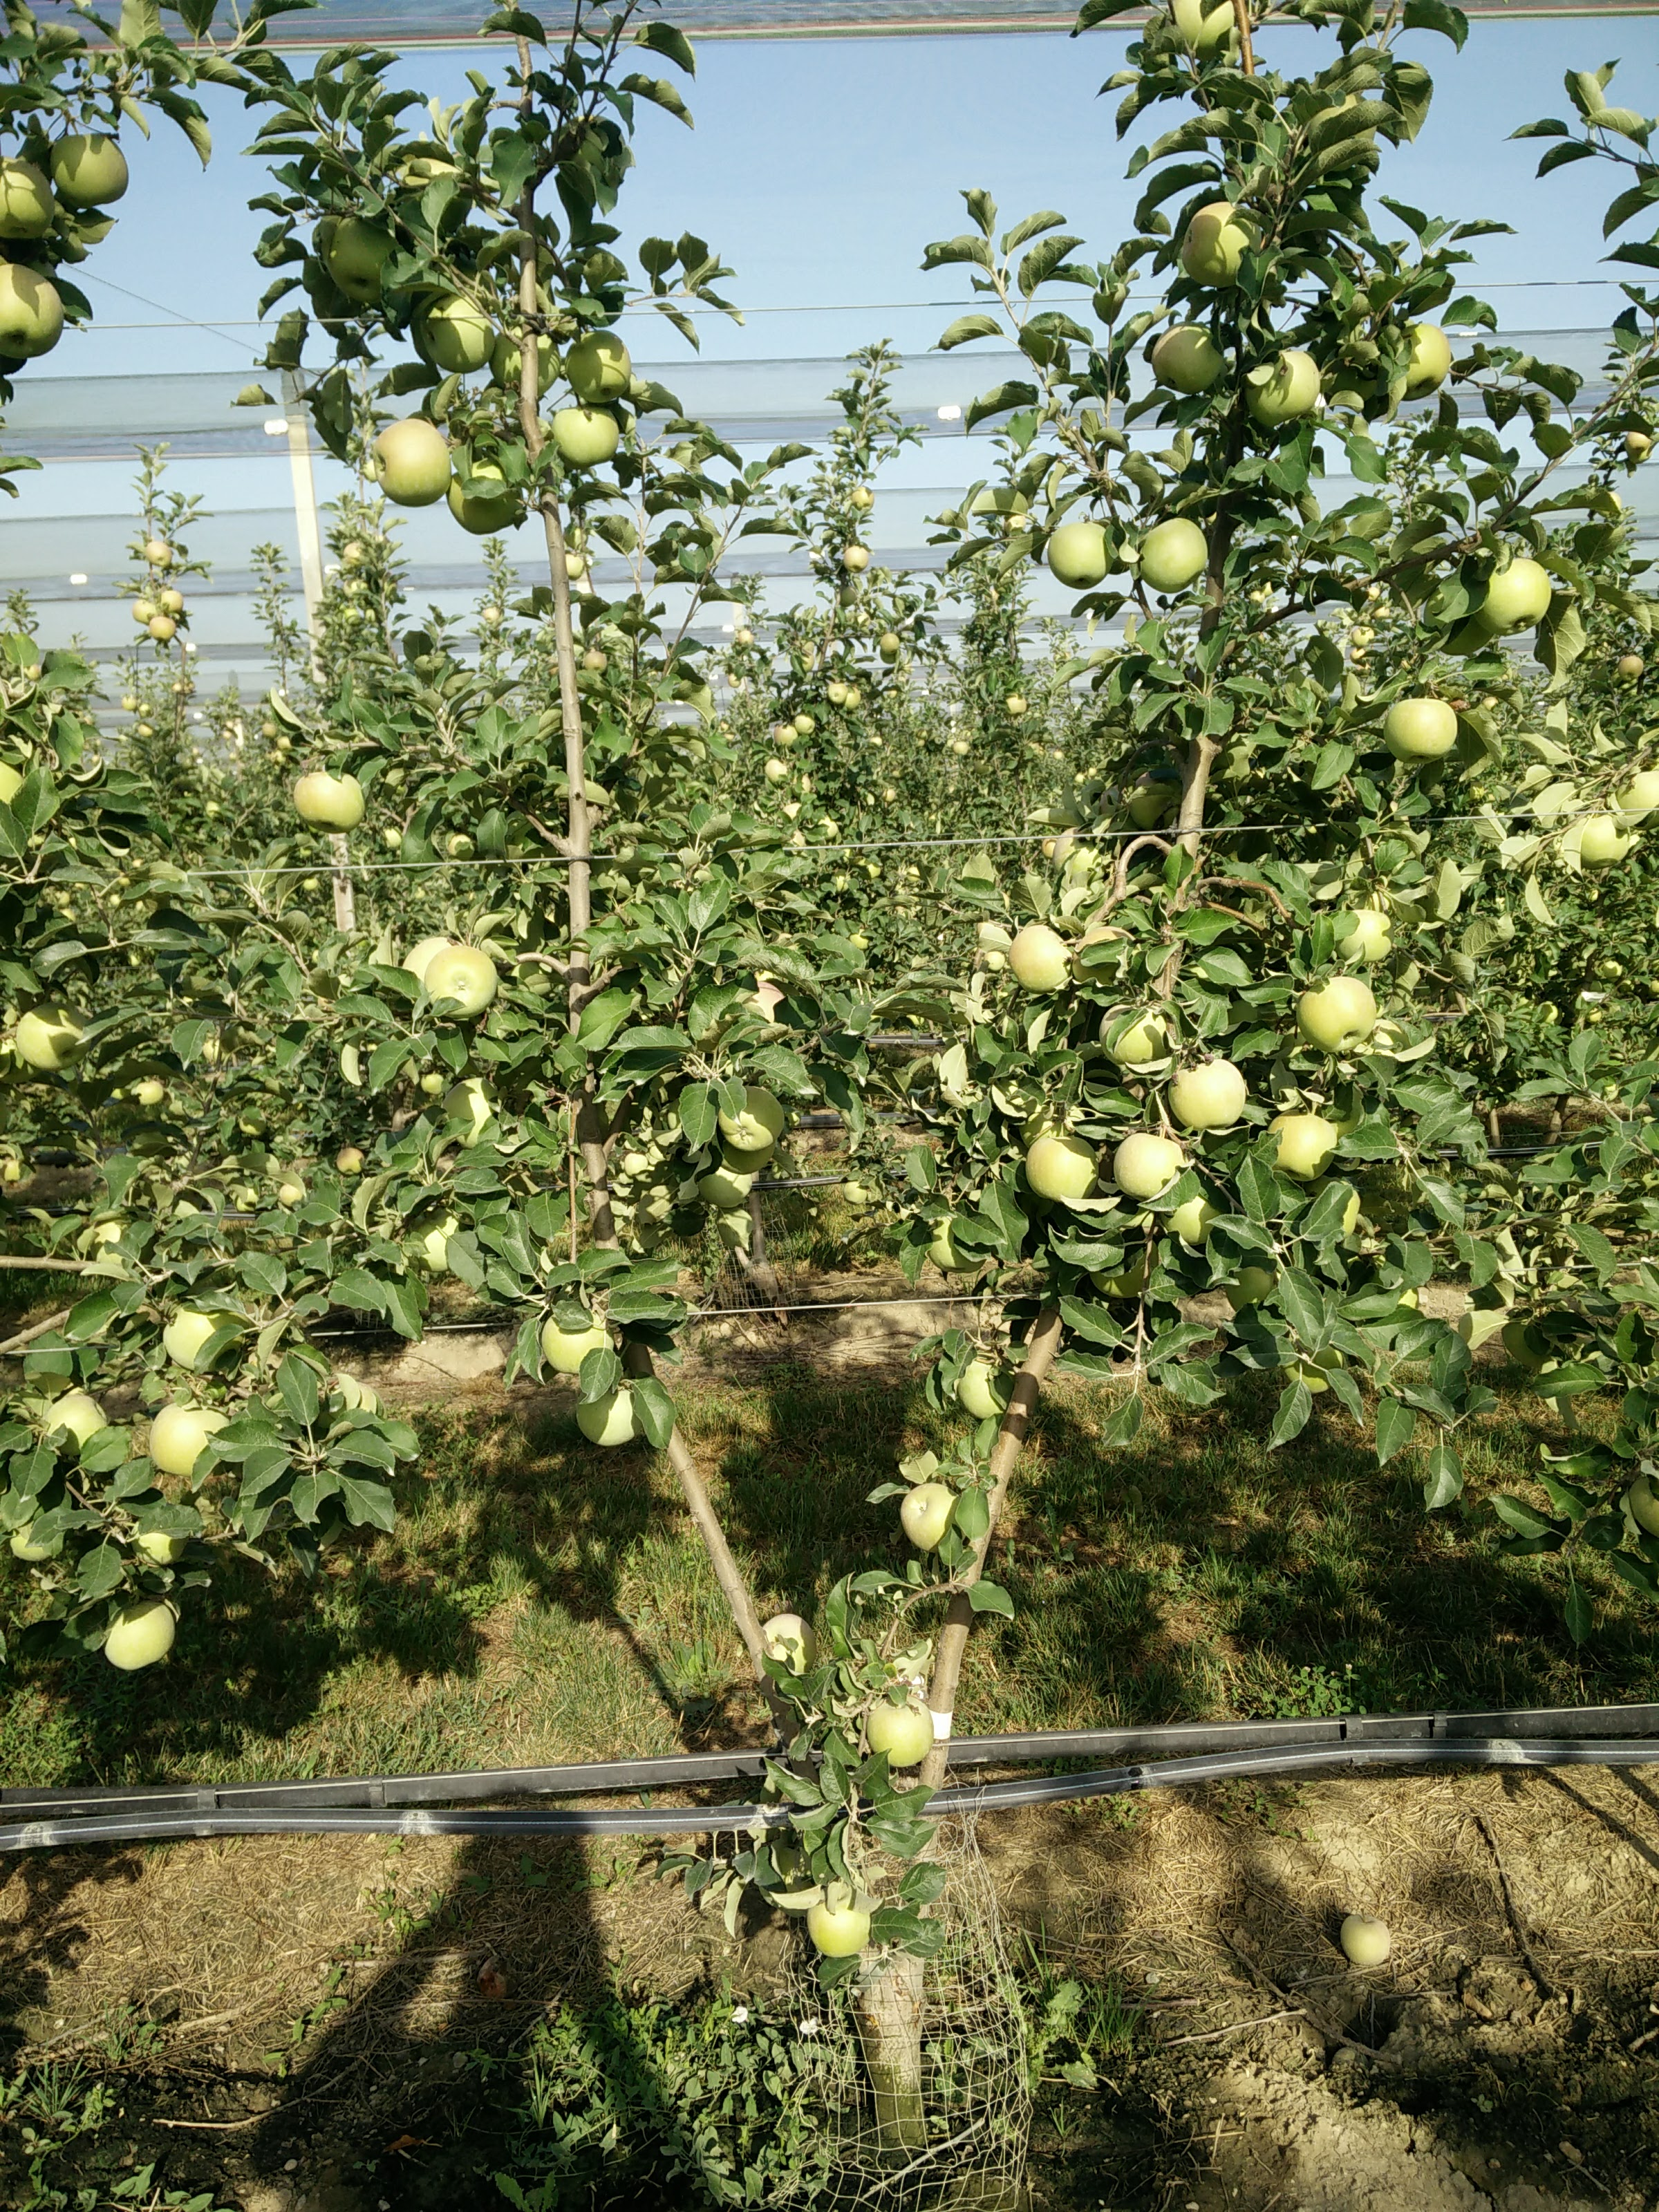apple: (1179, 196, 1264, 288), (1472, 550, 1553, 640), (447, 456, 532, 540), (1294, 973, 1380, 1056), (371, 418, 449, 509), (146, 1400, 236, 1474), (1161, 1050, 1246, 1127), (1245, 348, 1320, 432), (415, 289, 491, 368), (158, 1296, 245, 1365), (1136, 519, 1212, 598), (1042, 516, 1119, 592), (1262, 1103, 1338, 1177), (1386, 321, 1453, 405), (96, 1601, 179, 1669), (422, 944, 497, 1018), (1098, 993, 1177, 1064), (50, 133, 131, 204), (16, 997, 93, 1069), (1112, 1127, 1185, 1199), (542, 1306, 617, 1377), (1023, 1132, 1097, 1201), (1385, 694, 1457, 765), (41, 1392, 113, 1461), (1150, 327, 1226, 395), (290, 769, 367, 833), (571, 1385, 649, 1449), (1006, 921, 1074, 991), (561, 328, 627, 401), (895, 1484, 966, 1549), (801, 1889, 870, 1956), (757, 1611, 821, 1678), (870, 1694, 932, 1763), (547, 403, 618, 463), (719, 1087, 784, 1147), (1573, 809, 1629, 866)
